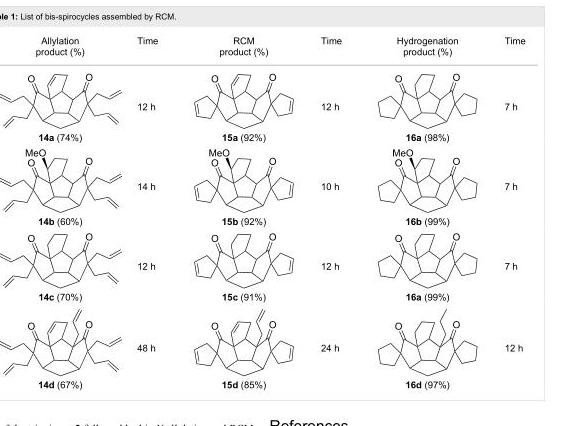table: (34, 34, 524, 389)
table column: (368, 34, 480, 389), (187, 34, 293, 389), (110, 34, 187, 389), (34, 34, 110, 389), (293, 34, 368, 389), (480, 34, 524, 389)
table row: (34, 78, 524, 161), (34, 161, 524, 243), (34, 243, 524, 321), (34, 321, 524, 389), (34, 34, 524, 78)
